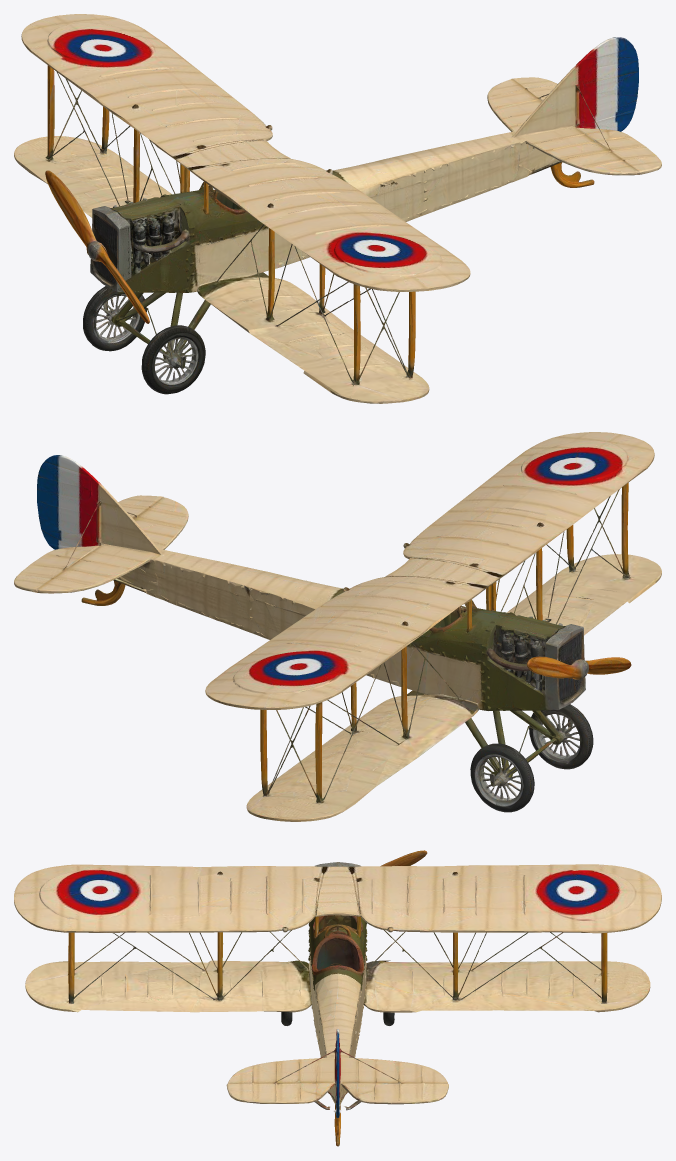
The picture shows the model from 3 angles, top to bottom: view 1: azimuth 30°, elevation 25°; view 2: azimuth 150°, elevation 25°; view 3: azimuth 270°, elevation 25°; orthographic projection. The views are drawn at different scales.
Visible parts, largest first — view 1: Mesh_0; view 2: Mesh_0; view 3: Mesh_0.
Boxes of the visible parts, x1,y1,x2,y2 form: Mesh_0: (14,14,661,403); Mesh_0: (14,432,661,821); Mesh_0: (14,850,661,1146).
Size of the model in its own units: 1.61 by 0.6172 by 1.9.
1 material, 1 textured.
